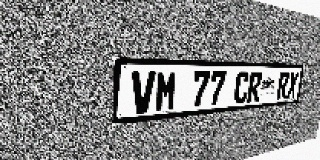7: (190, 71, 210, 109), (208, 71, 227, 107)
C: (233, 72, 250, 104)
M: (154, 71, 178, 112)
R: (247, 72, 263, 103), (276, 72, 290, 100)
V: (130, 71, 156, 115)
X: (286, 72, 299, 99)
